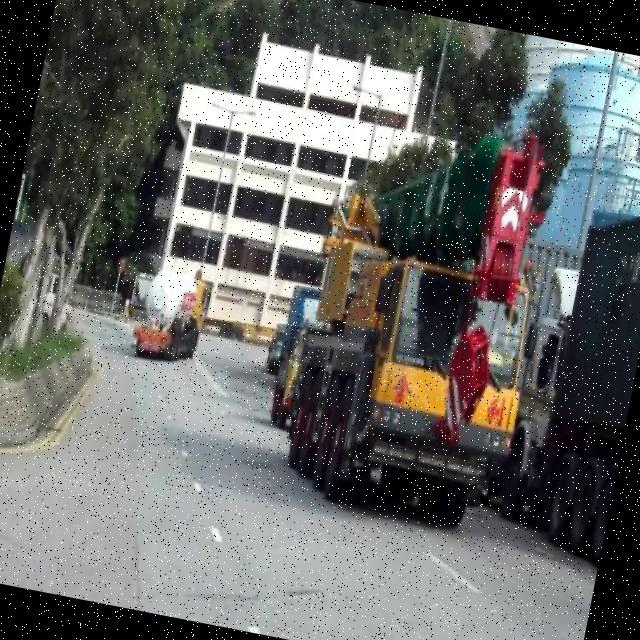Mobile Crane: (275, 114, 567, 535)
